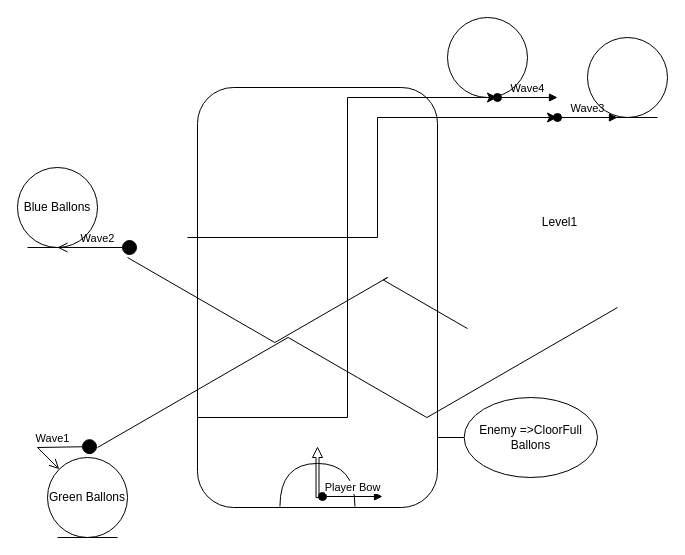
Some shapes in this 685 by 555 pixel diagram are drawn without their labels. Here are the shapes that lost their labels. From the top down, the centre of each, then its label:
point (487, 57): Red Ballons
point (627, 77): Yellow Ballons
